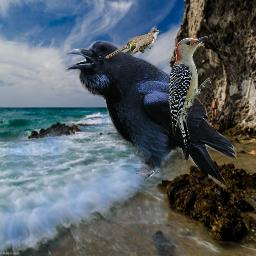Crow: (65, 40, 237, 189)
Cuckoo: (105, 29, 161, 59)
Woodpecker: (169, 33, 213, 158)
